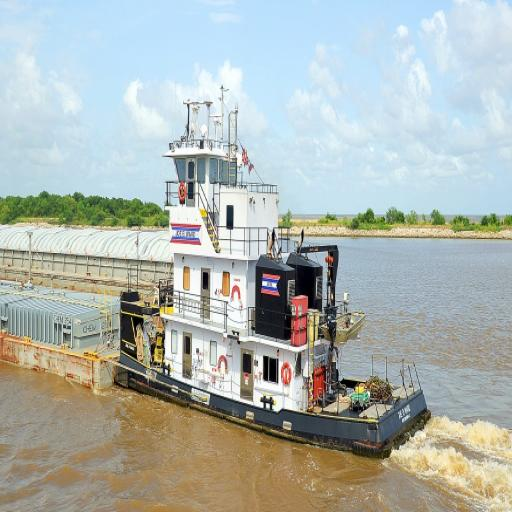tugboat: (110, 83, 435, 466)
